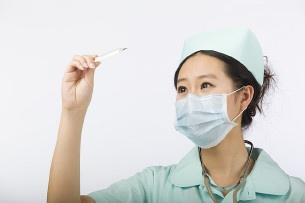Mask: (172, 73, 242, 144)
